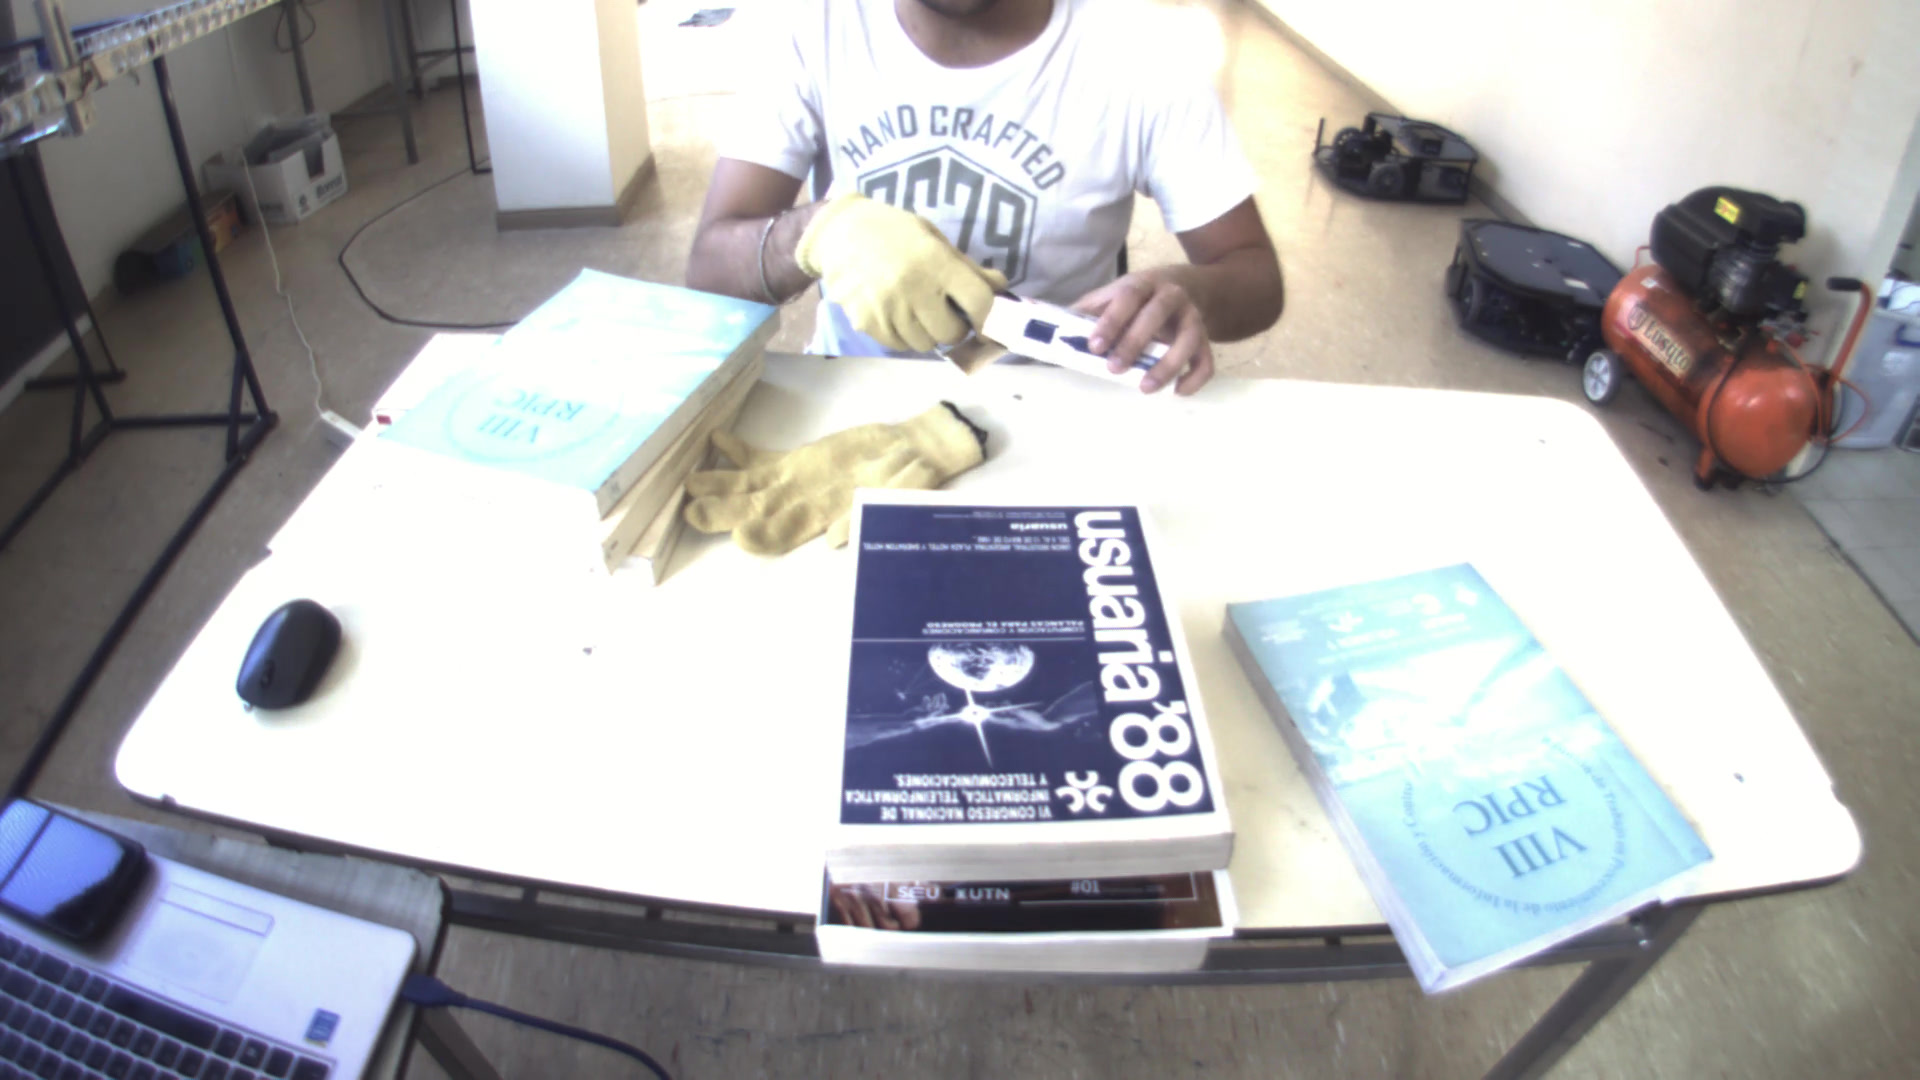hand: (793, 179, 1007, 356), (1076, 248, 1234, 394)
